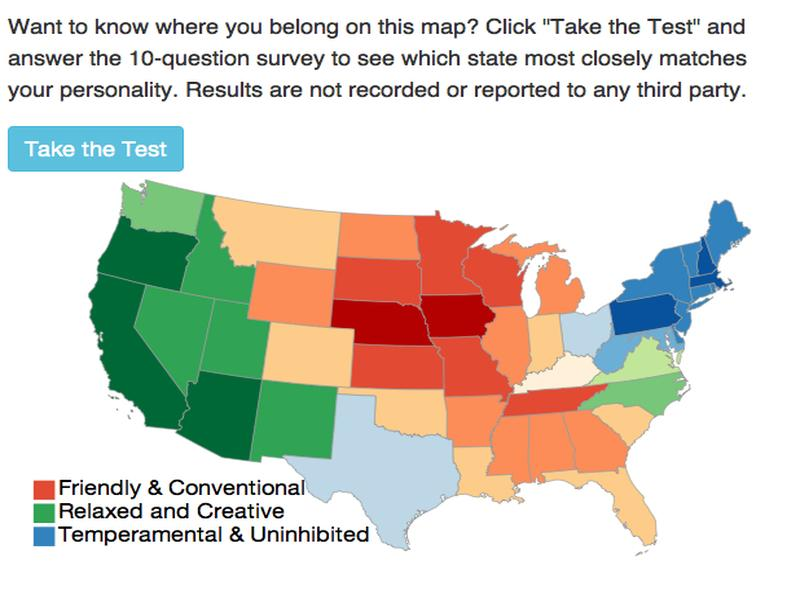legend: (32, 476, 371, 549)
